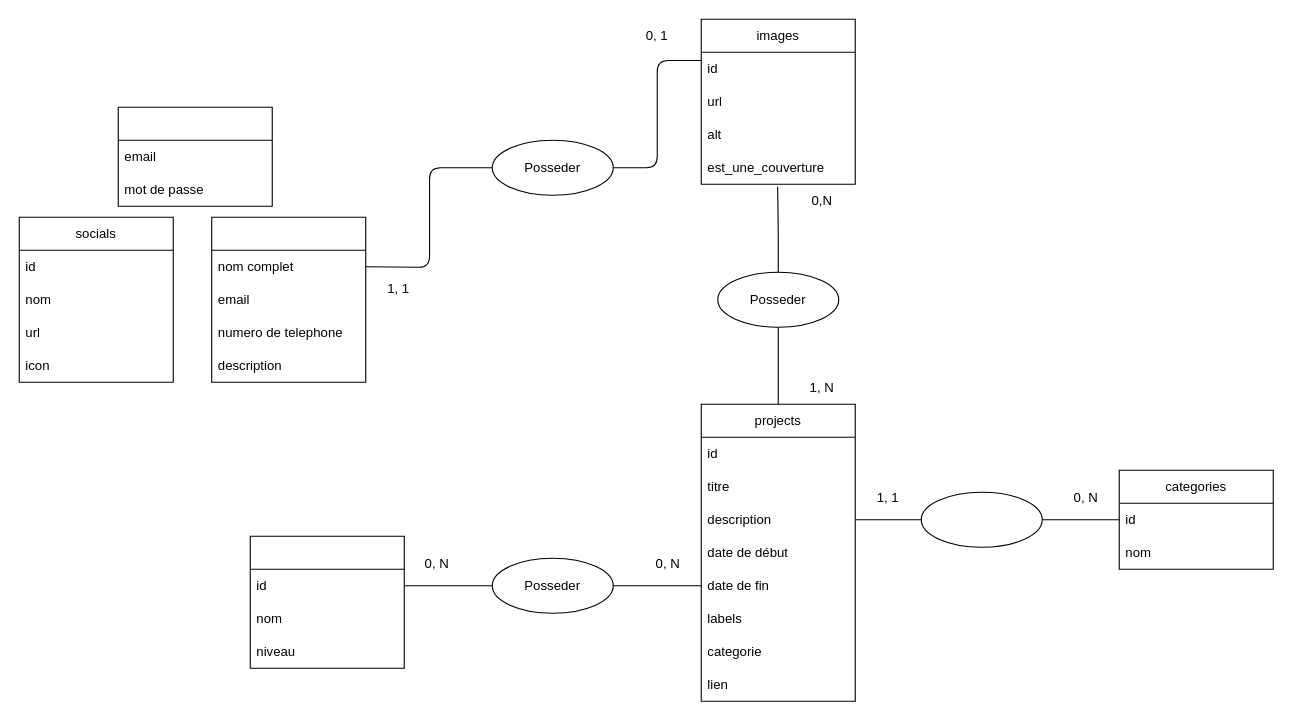
The diagram is 1293 pixels wide and 721 high, and some of its shapes have lost their labels. Here are the shapes that lost their labels. From the top down, the box of each, then its label:
(117, 106, 272, 206): Admins
(211, 216, 366, 382): profile
(920, 491, 1042, 547): Faire partie
(249, 535, 404, 668): skills
